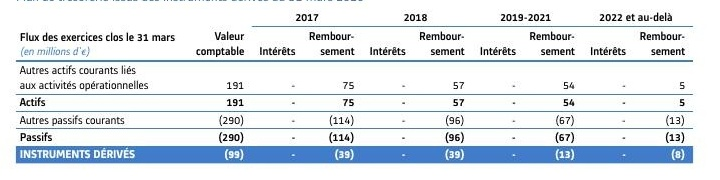table: (0, 0, 720, 180)
